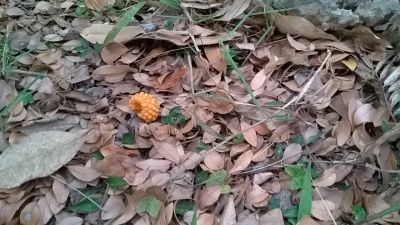eggs: (128, 92, 161, 123)
